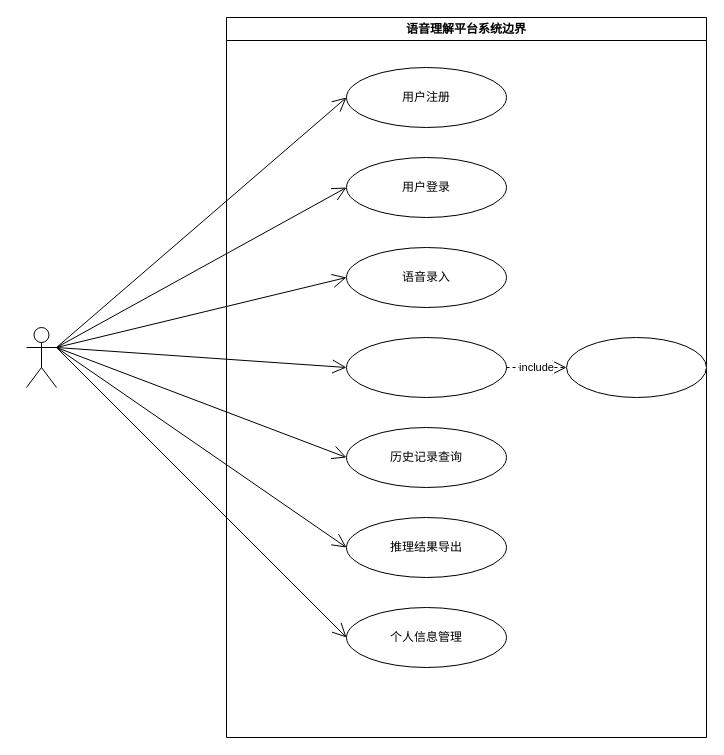
The diagram is 724 pixels wide and 755 high, and some of its shapes have lost their labels. Here are the shapes that lost their labels. From the top down, the centre of each, then its label:
At point 41,357: "普通用户".
At point 426,367: "深度推理分析".
At point 636,367: "思考过程展示".
